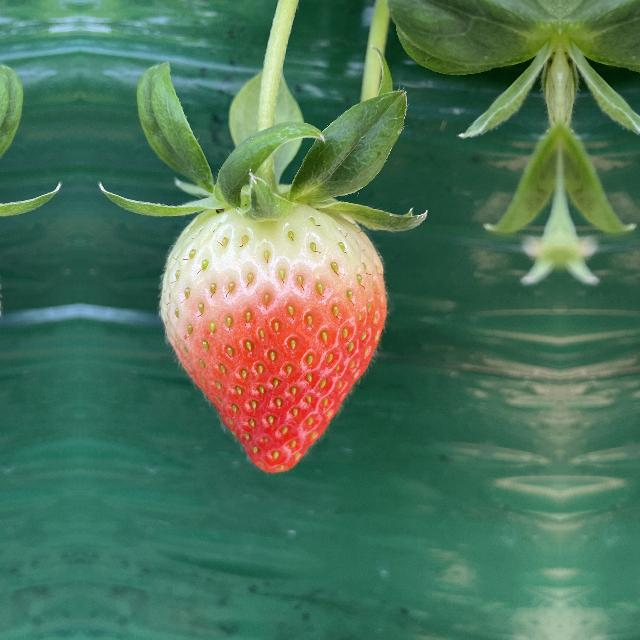Health_75: (152, 194, 394, 486)
